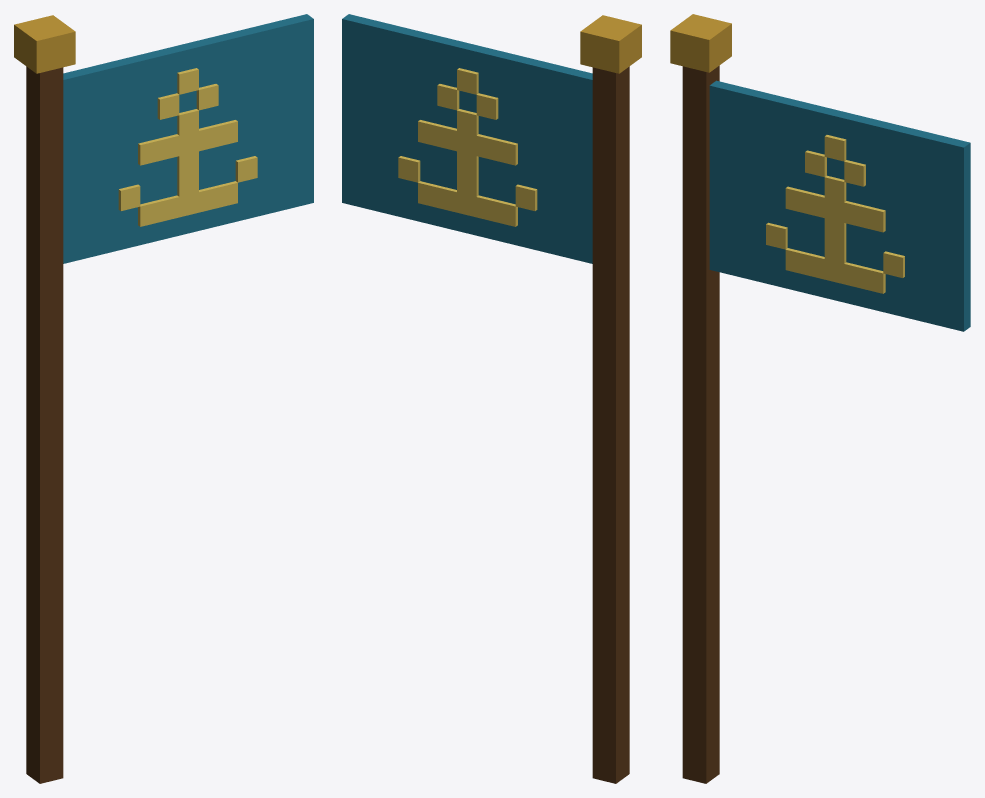
Rendered from ncb-flag-island.glb.
The picture shows the model from 3 angles, left to right: view 1: azimuth 30°, elevation 25°; view 2: azimuth 150°, elevation 25°; view 3: azimuth 330°, elevation 25°; orthographic projection.
Visible parts, largest first — view 1: box-prop; view 2: box-prop; view 3: box-prop.
Part boxes in pixels (x1,y1,x2,y2): box-prop: (14, 14, 313, 783); box-prop: (342, 14, 641, 783); box-prop: (670, 14, 970, 783).
Size of the model in its own units: 1.46 by 3.66 by 0.2.
